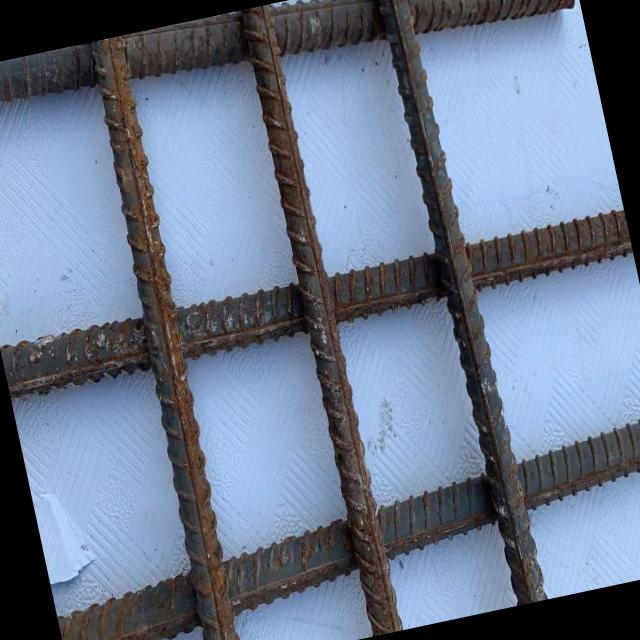ribbed bar: (41, 410, 640, 640), (0, 205, 637, 403), (73, 35, 257, 640), (371, 0, 547, 608), (238, 4, 404, 636), (0, 0, 578, 142)
